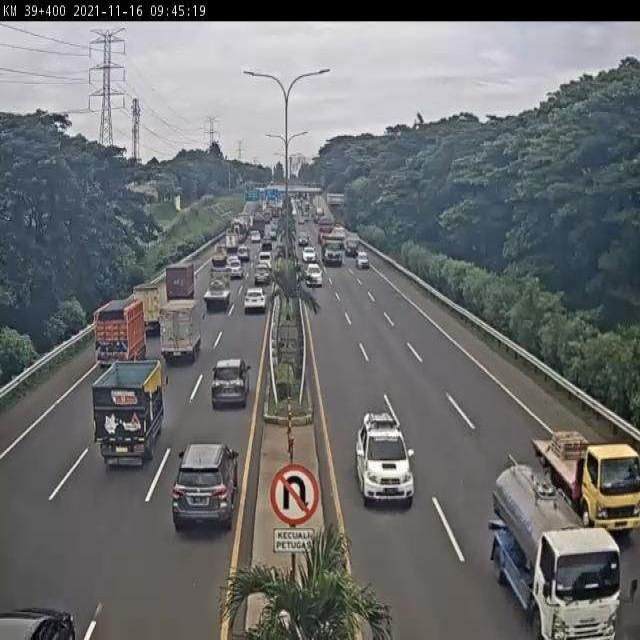car: (356, 411, 414, 506), (173, 444, 239, 527), (210, 358, 249, 406), (244, 291, 266, 317), (306, 263, 323, 289), (234, 245, 253, 268), (225, 259, 242, 280), (253, 269, 268, 288)
small bus: (257, 253, 276, 275)
small truck: (490, 461, 621, 640), (532, 435, 640, 533), (157, 299, 199, 365), (129, 286, 165, 334), (208, 246, 228, 270)
truck-m-: (95, 361, 165, 468), (94, 299, 145, 373), (161, 263, 192, 309), (202, 272, 231, 320)
